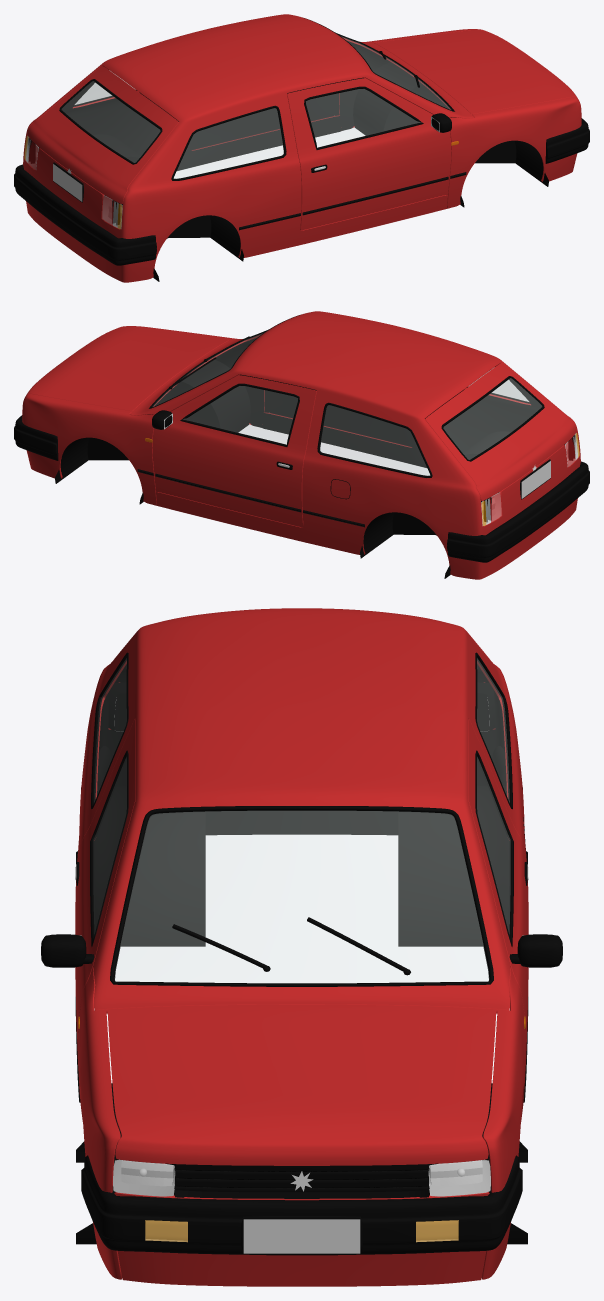
The model's file is caipora-molde_lod1.glb.
The picture shows the model from 3 angles, top to bottom: view 1: azimuth 30°, elevation 25°; view 2: azimuth 150°, elevation 25°; view 3: azimuth 270°, elevation 25°; orthographic projection. The views are drawn at different scales.
Visible parts, largest first — view 1: body, door_fr, hood, trunk, fender_front_right, glass_door_rr, glass_door_fr, glass_rear, bumper_rear, door_fl, glass_windshield, fender_front_left (+4 smaller); view 2: body, door_fl, hood, trunk, fender_front_left, glass_door_rl, glass_door_fl, glass_rear, bumper_rear, door_fr, glass_windshield, fender_front_right (+4 smaller); view 3: body, glass_windshield, hood, bumper_front, grille, fender_front_left, fender_front_right, plate_front, door_fr, door_fl, glass_door_fl, glass_door_fr (+8 smaller).
Part boxes in pixels (x1=…): body: x1=23, y1=14, x2=548, y2=282; door_fr: x1=287, y1=78, x2=451, y2=230; hood: x1=374, y1=30, x2=578, y2=114; trunk: x1=27, y1=66, x2=178, y2=204; fender_front_right: x1=447, y1=97, x2=581, y2=208; glass_door_rr: x1=171, y1=105, x2=286, y2=180; glass_door_fr: x1=304, y1=86, x2=423, y2=149; glass_rear: x1=59, y1=79, x2=162, y2=164; bumper_rear: x1=14, y1=164, x2=156, y2=265; door_fl: x1=191, y1=82, x2=339, y2=149; glass_windshield: x1=304, y1=18, x2=454, y2=111; fender_front_left: x1=339, y1=29, x2=484, y2=130; body: x1=55, y1=311, x2=580, y2=579; door_fl: x1=152, y1=375, x2=316, y2=527; hood: x1=25, y1=327, x2=229, y2=411; trunk: x1=425, y1=363, x2=576, y2=501; fender_front_left: x1=22, y1=394, x2=156, y2=505; glass_door_rl: x1=317, y1=402, x2=432, y2=477; glass_door_fl: x1=180, y1=383, x2=299, y2=446; glass_rear: x1=441, y1=376, x2=544, y2=461; bumper_rear: x1=447, y1=461, x2=589, y2=562; door_fr: x1=264, y1=379, x2=412, y2=446; glass_windshield: x1=149, y1=315, x2=299, y2=408; fender_front_right: x1=119, y1=326, x2=264, y2=427; body: x1=76, y1=608, x2=527, y2=1286; glass_windshield: x1=110, y1=806, x2=493, y2=986; hood: x1=107, y1=1004, x2=496, y2=1165; bumper_front: x1=81, y1=1155, x2=522, y2=1254; grille: x1=174, y1=1164, x2=429, y2=1198; fender_front_left: x1=481, y1=966, x2=526, y2=1279; fender_front_right: x1=77, y1=966, x2=122, y2=1279; plate_front: x1=241, y1=1216, x2=362, y2=1255; door_fr: x1=75, y1=719, x2=135, y2=1081; door_fl: x1=468, y1=719, x2=528, y2=1081; glass_door_fl: x1=475, y1=750, x2=513, y2=946; glass_door_fr: x1=90, y1=750, x2=128, y2=946.
Size of the model in its own units: 3.87 by 1.17 by 1.79.
10 materials, 1 textured.
